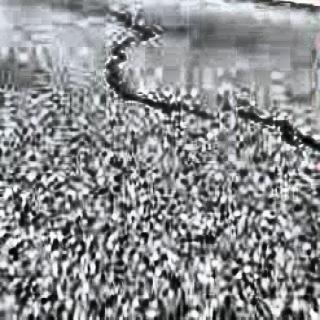crack: (87, 4, 320, 147)
